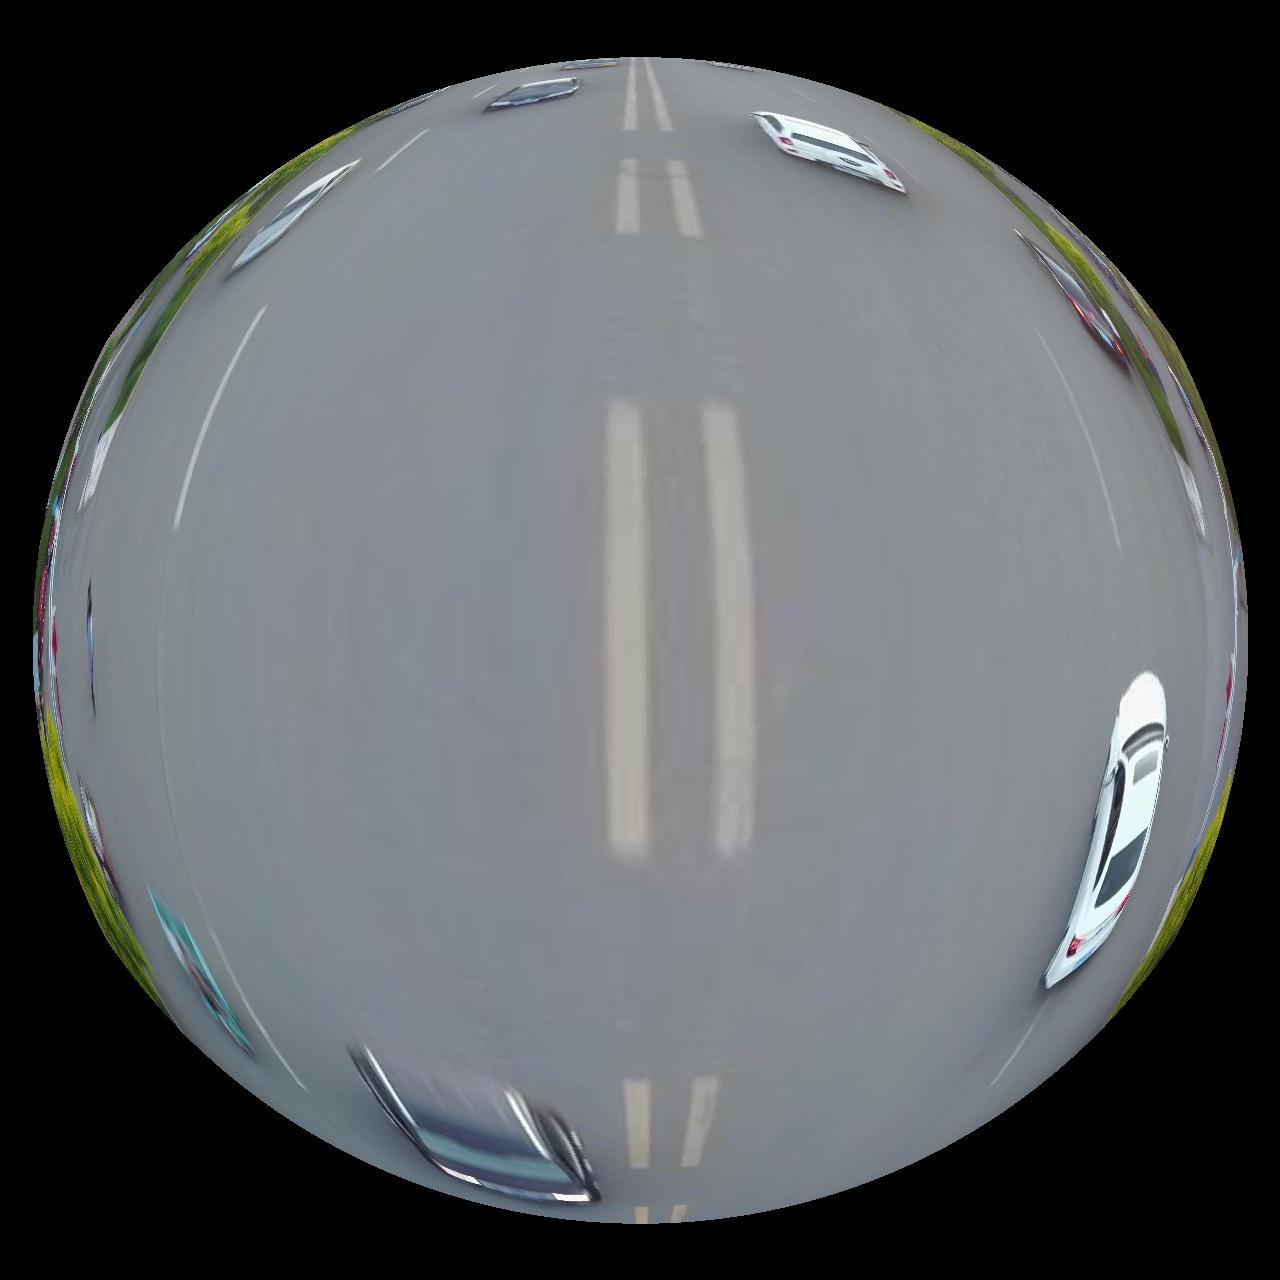cars: (347, 1046, 600, 1205), (1046, 674, 1170, 990), (1019, 230, 1130, 368), (231, 159, 358, 272), (754, 111, 906, 191), (486, 75, 579, 109)
